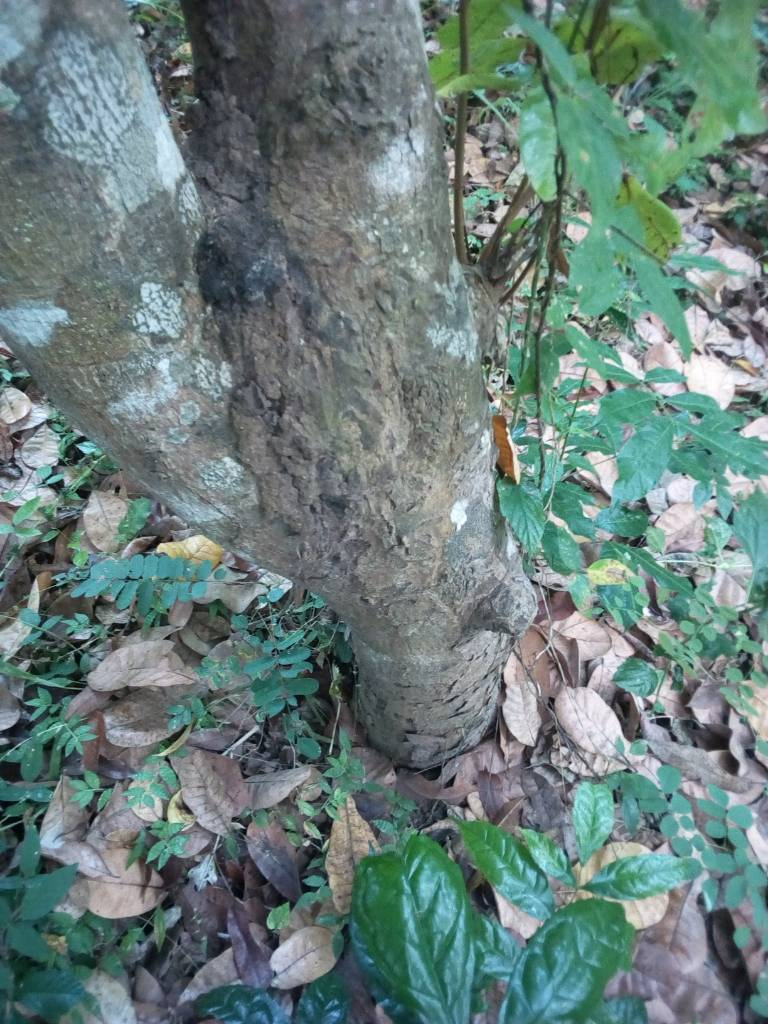Termites: (199, 152, 450, 558)
